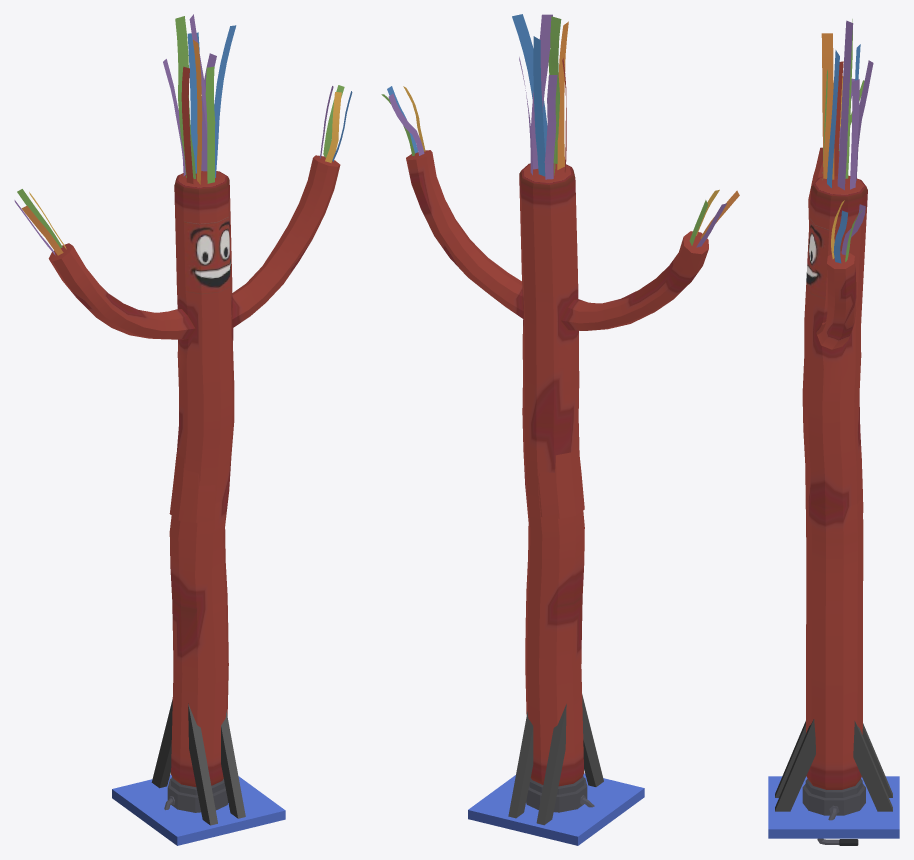
The model's file is tubeMan.glb.
The picture shows the model from 3 angles, left to right: view 1: azimuth 30°, elevation 25°; view 2: azimuth 150°, elevation 25°; view 3: azimuth 270°, elevation 25°; orthographic projection.
Parts seen in each view (by area): view 1: TopTubeMan, BottomTubeMan, Bottom_Box, Under_Pump, CenterTubeMan; view 2: TopTubeMan, BottomTubeMan, Bottom_Box, Under_Pump, CenterTubeMan; view 3: TopTubeMan, BottomTubeMan, Bottom_Box, Under_Pump.
Part boxes in pixels (box(x1,y1,x2,y2)): TopTubeMan: box(14, 14, 352, 503); BottomTubeMan: box(164, 491, 229, 812); Bottom_Box: box(112, 774, 285, 845); Under_Pump: box(151, 699, 245, 825); CenterTubeMan: box(169, 453, 215, 522); TopTubeMan: box(381, 14, 739, 497); BottomTubeMan: box(525, 487, 594, 812); Bottom_Box: box(468, 773, 644, 845); Under_Pump: box(508, 694, 603, 825); CenterTubeMan: box(538, 447, 584, 518); TopTubeMan: box(802, 19, 873, 508); BottomTubeMan: box(802, 497, 865, 845); Bottom_Box: box(768, 776, 899, 838); Under_Pump: box(775, 719, 892, 811).
Bounding box in the file's own units: 3.25 × 7.37 × 1.09.
4 materials, 2 textured.
